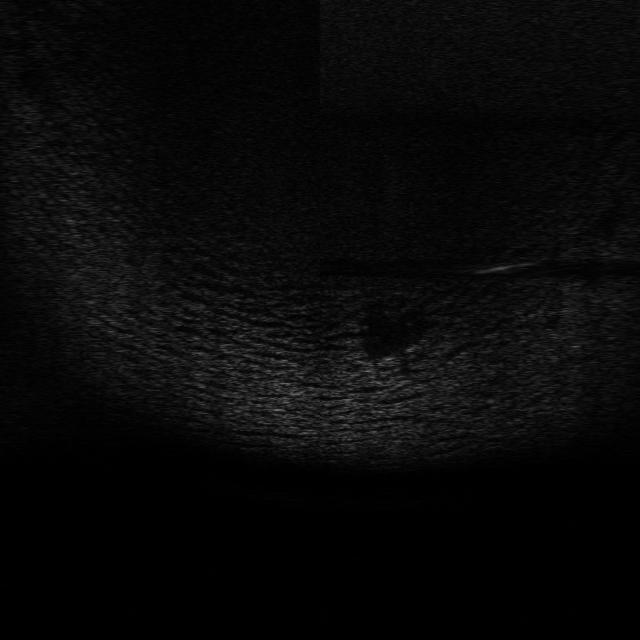plane: (357, 343, 427, 377)
